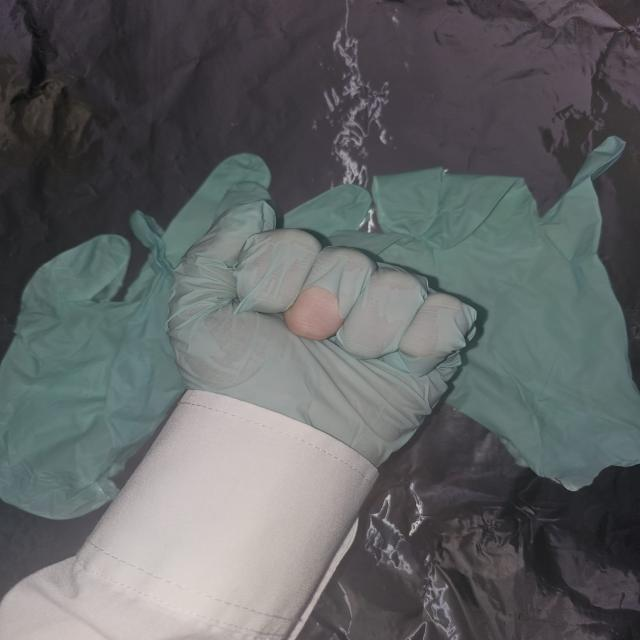gloves_damaged: (165, 198, 483, 470)
